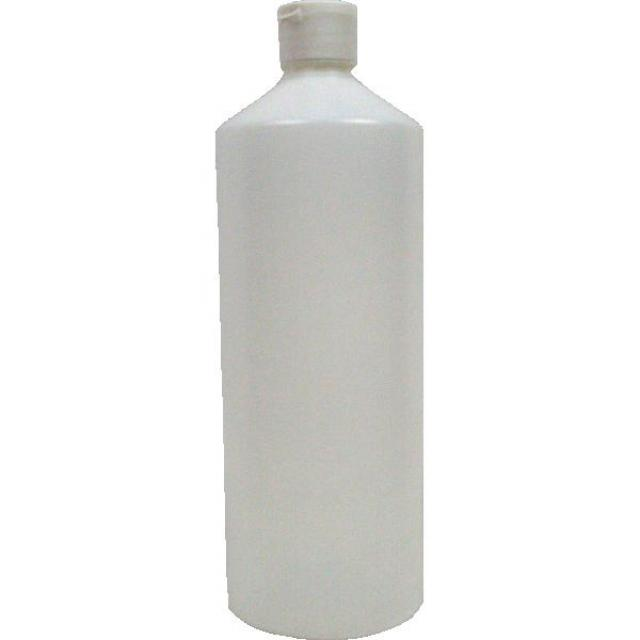plastic_bottle: (207, 4, 465, 640)
